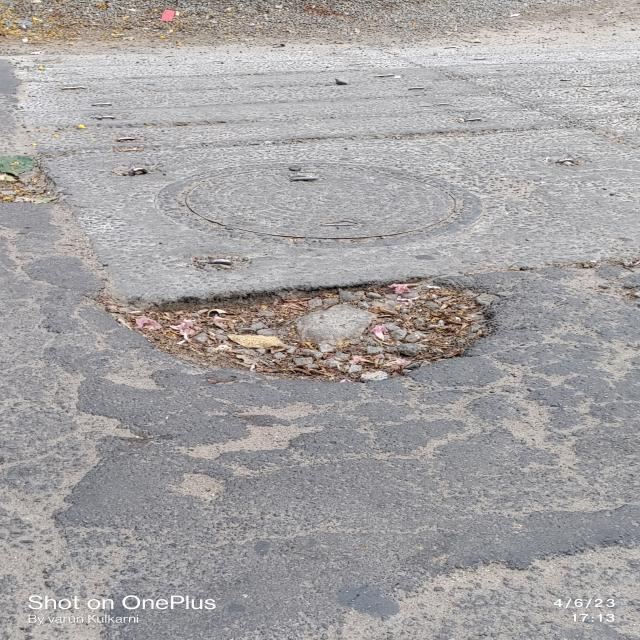potholes: (137, 284, 493, 374)
